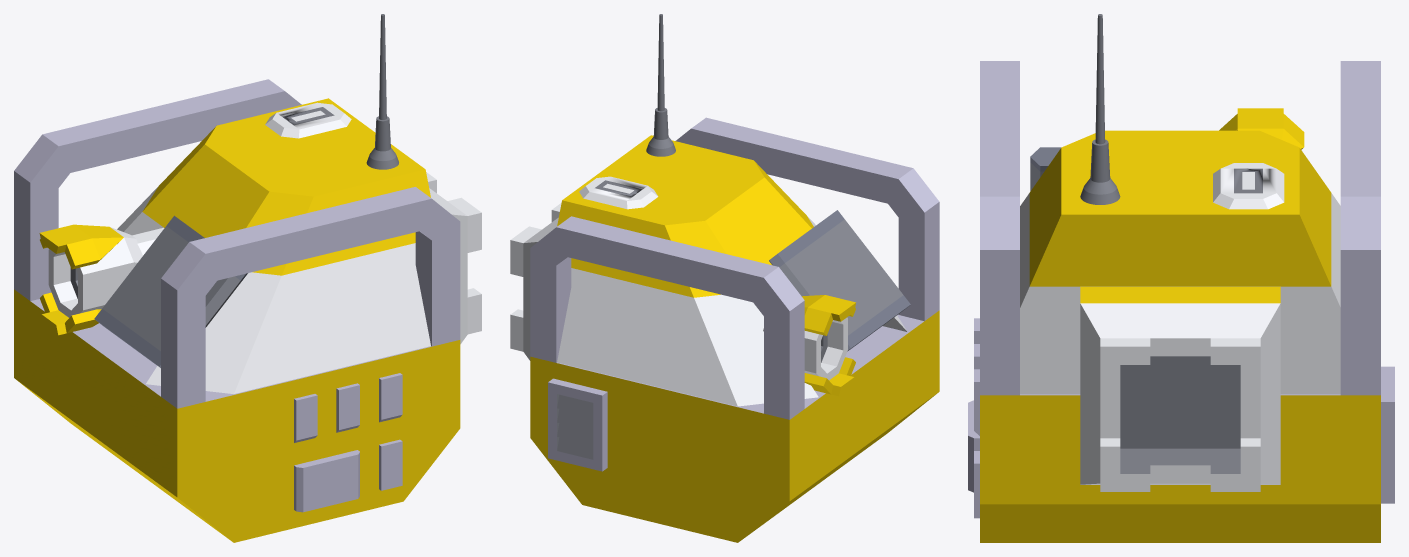
Rendered from Charging_Station.fbx.
3 views of the same model, side by side, from view 1: azimuth 30°, elevation 25°; view 2: azimuth 150°, elevation 25°; view 3: azimuth 270°, elevation 25° (orthographic). The views are drawn at different scales.
Visible parts, largest first — view 1: Charging_Station.001; view 2: Charging_Station.001; view 3: Charging_Station.001.
Part boxes in pixels (<box>): Charging_Station.001: <box>14,14,481,542</box>; Charging_Station.001: <box>510,14,939,542</box>; Charging_Station.001: <box>968,14,1394,542</box>.
Bounding box in the file's own units: 130 × 150 × 107.
